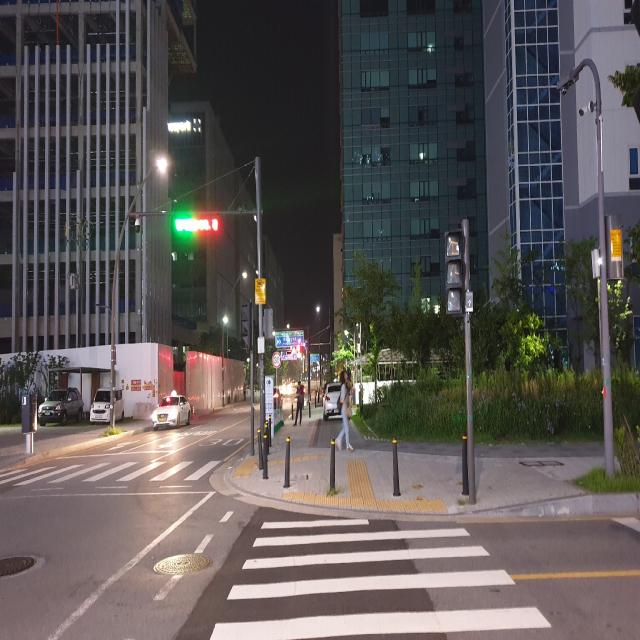횡단보도: (209, 517, 552, 640), (0, 438, 232, 491)
